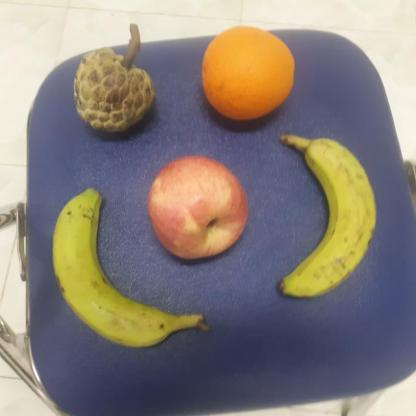annona: (73, 47, 157, 137)
apple: (144, 152, 252, 272)
banana: (49, 187, 210, 349), (277, 131, 379, 304)
orange: (202, 26, 296, 122)
